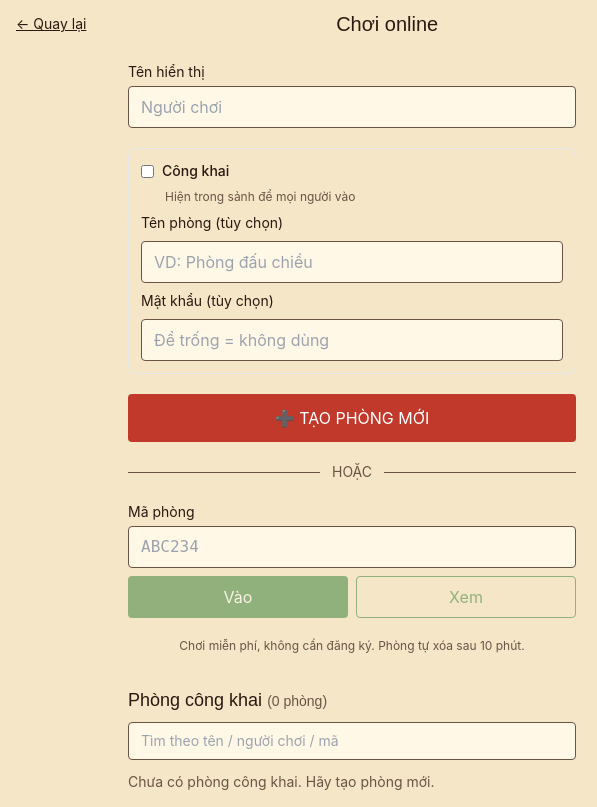
RoomLobby › uppercase + max 6 ký tự cho mã phòng
Type "abc234extra" into the field with test id "input-room-code" at (352, 547), box [128,526,576,568]
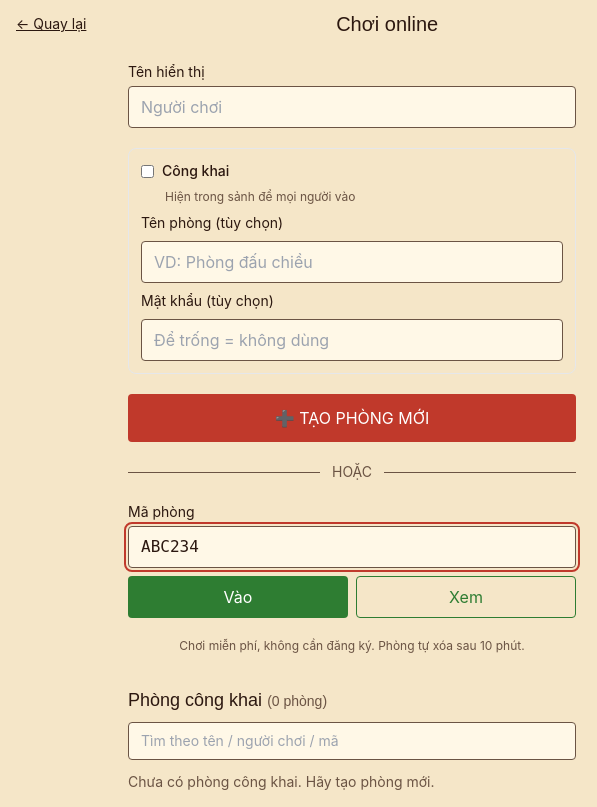
Expected: the field with test id "input-room-code" holds "ABC234", [128,526,576,568]
